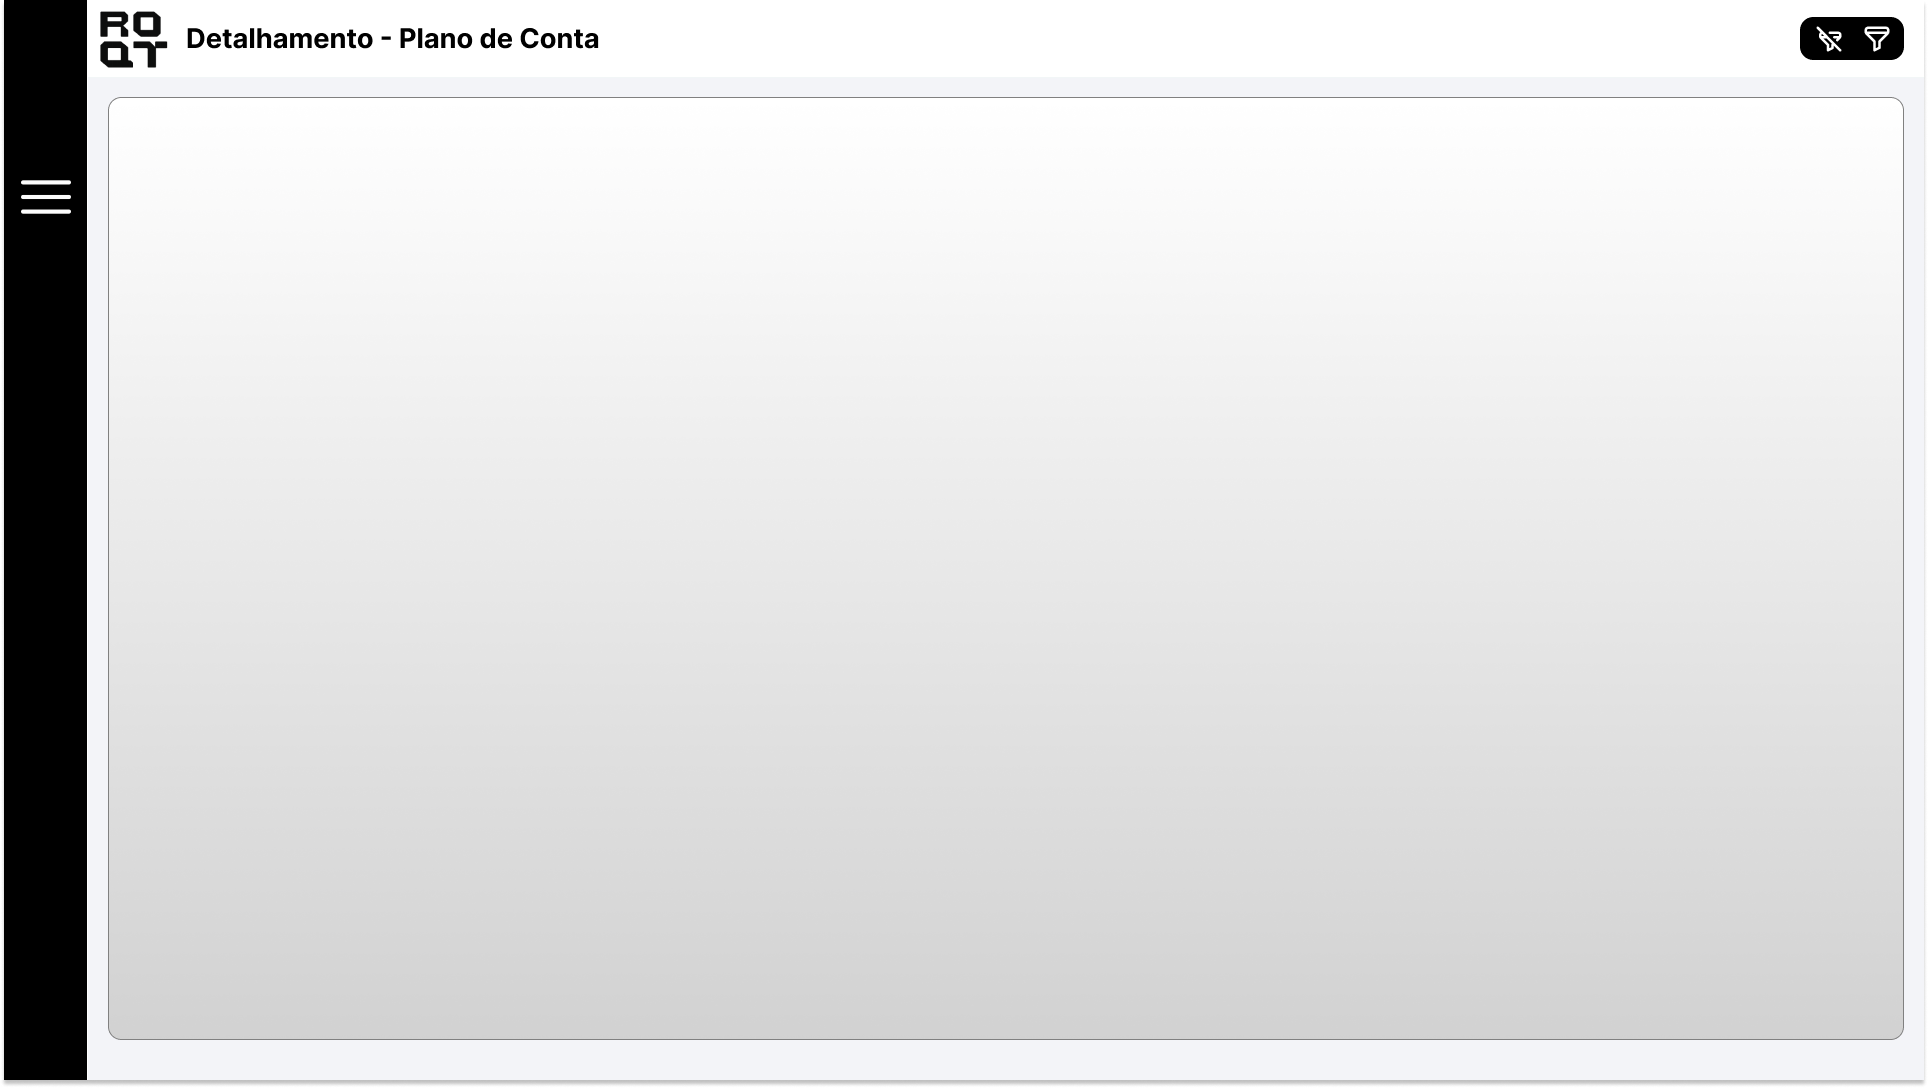

Layout of this report page (visuals, bound fields, positions):
{"tool":"powerbi","page":{"name":"Det. Plano de Contas","canvas":[1280,720],"ordinal":6},"visuals":[{"type":"group","id":"g1","title":"Geral","box":[0,11,1264.6,676.7],"z":0},{"type":"pivotTable","fields":{"Rows":["d_Plano_de_Contas.Categoria","d_Plano_de_Contas.Grupo","d_Plano_de_Contas.Nome"],"Values":["Medidas.m_resultado_dre","Medidas.m_resultado_M_1","Medidas.m_seta_variacao_m1","Medidas.m_resultado_m_12","Medidas.m_seta_variacao_m12","Medidas.m_acumulado_ano","Medidas.m_acumulado_ano_anterior","Medidas.m_seta_acumulado"]},"box":[71.5,64.6,1193.1,623.1],"z":0,"group":"g1"},{"type":"actionButton","title":"botao - menu lateral","box":[0,110,57.5,40],"z":1000,"group":"g1"},{"type":"actionButton","title":"botao - limpa filtros","box":[1198.9,11.1,30,27.8],"z":2000,"group":"g1"},{"type":"actionButton","title":"botao - filtros","box":[1229,11,30,28],"z":3000,"group":"g1"}]}

Visuals, with their boxes on the page's 1280x720 design canvas (x1, y1, x2, y2). These are canvas units, not pixel positions in the 1928x1088 screenshot, which may show the page scaled, cropped or inside an application window:
"Geral" group: (x1=0, y1=11, x2=1265, y2=688)
pivotTable - d_Plano_de_Contas.Categoria x d_Plano_de_Contas.Grupo: (x1=72, y1=65, x2=1265, y2=688)
"botao - menu lateral" actionButton: (x1=0, y1=110, x2=58, y2=150)
"botao - limpa filtros" actionButton: (x1=1199, y1=11, x2=1229, y2=39)
"botao - filtros" actionButton: (x1=1229, y1=11, x2=1259, y2=39)
